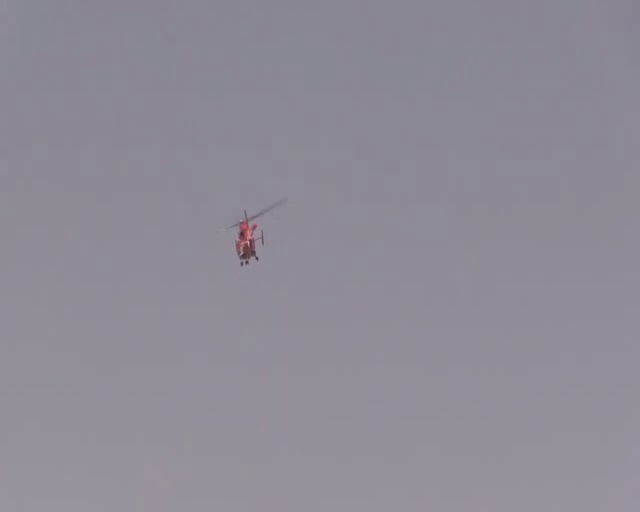HELICOPTER: (229, 196, 287, 267)
